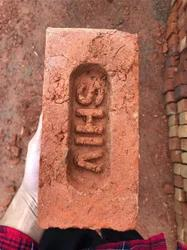brick: (38, 27, 138, 232)
